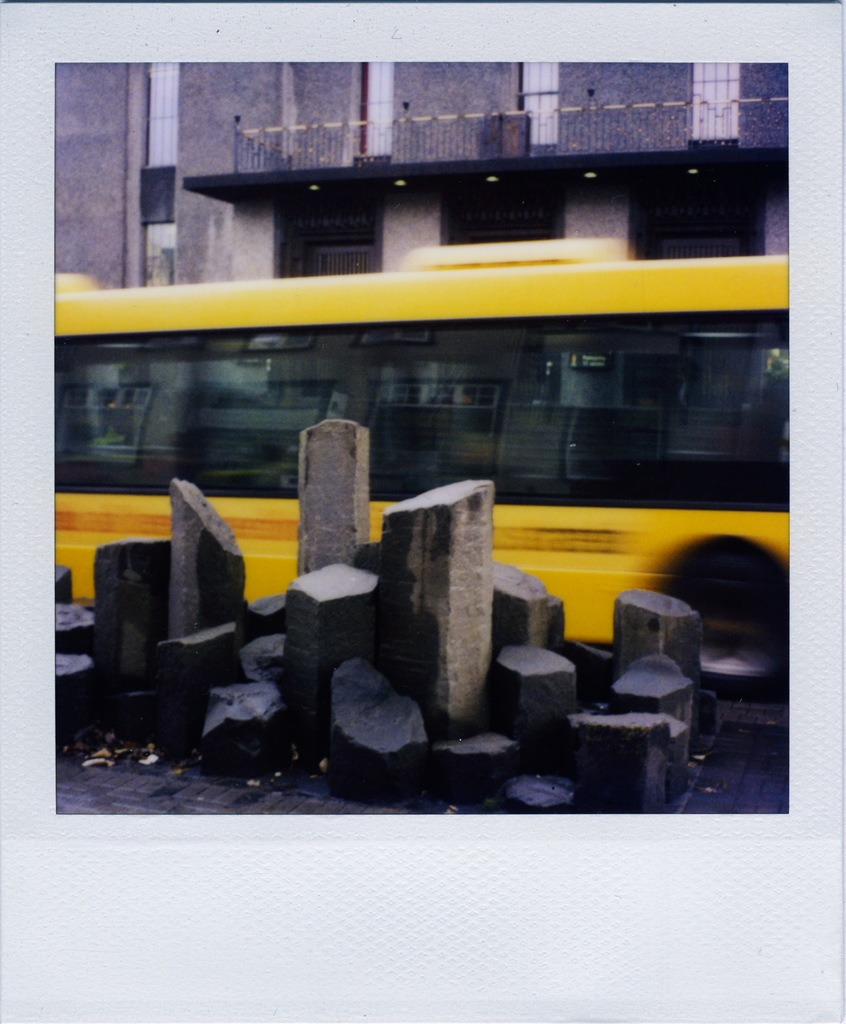Bus: (55, 229, 798, 642)
